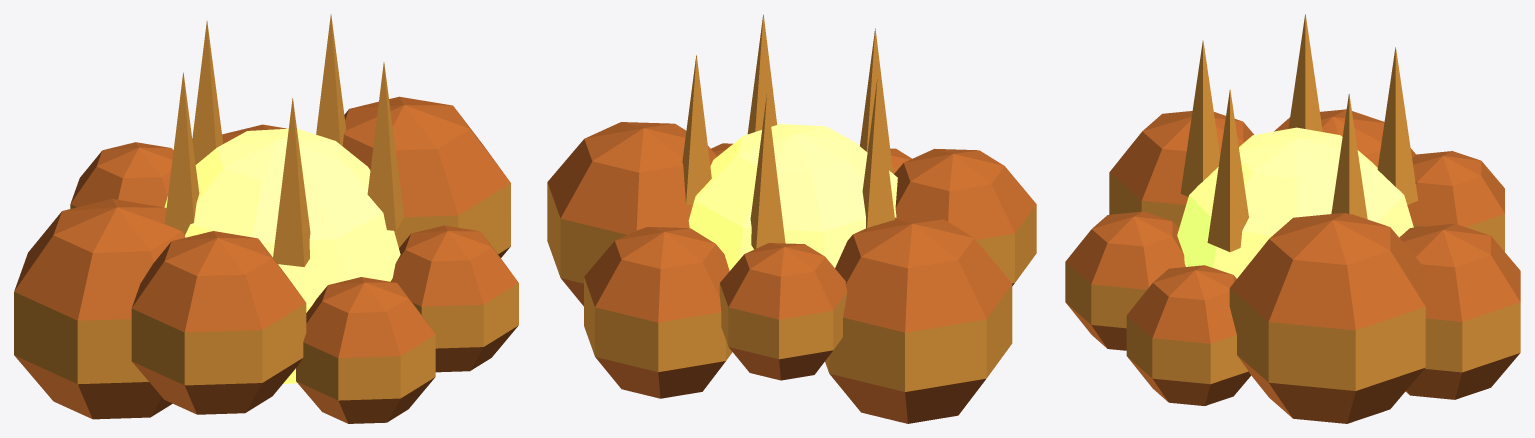
File: rts.hive.glb
The picture shows the model from 3 angles, left to right: view 1: azimuth 30°, elevation 25°; view 2: azimuth 150°, elevation 25°; view 3: azimuth 270°, elevation 25°; orthographic projection. The views are drawn at different scales.
Parts seen in each view (by area): view 1: rts.hive; view 2: rts.hive; view 3: rts.hive.
Part boxes in pixels (bbox=[...]): rts.hive: bbox=[14, 14, 518, 423]; rts.hive: bbox=[547, 14, 1036, 423]; rts.hive: bbox=[1065, 14, 1520, 423].
Size of the model in its own units: 2.29 by 1.58 by 2.02.
